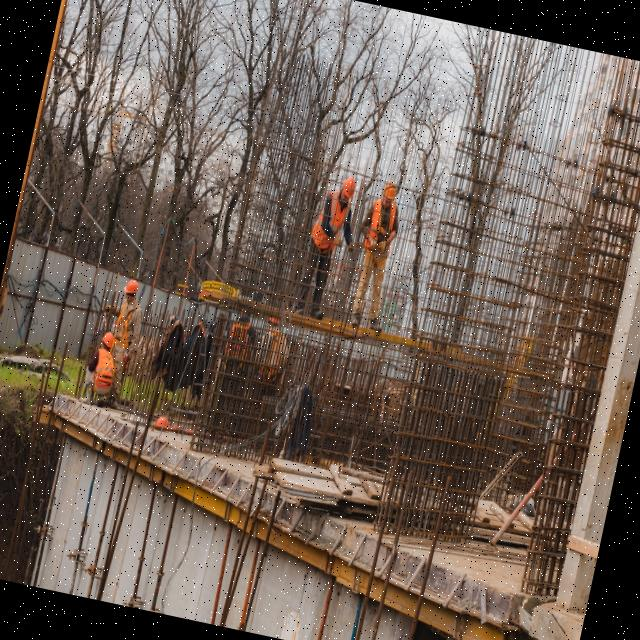Helmet: (339, 175, 358, 203), (122, 278, 142, 300), (381, 181, 400, 204), (101, 332, 117, 351)
Jacket: (363, 196, 400, 261), (316, 193, 351, 259), (90, 352, 120, 390)
NoJacket: (112, 297, 142, 354)
